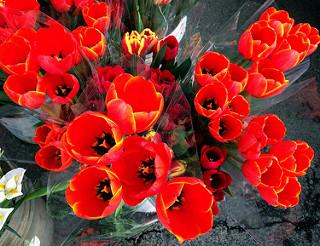tulip: (108, 140, 172, 202), (160, 176, 216, 241), (106, 75, 163, 134), (64, 168, 123, 221), (64, 111, 124, 162), (237, 21, 277, 60), (72, 25, 109, 61)
